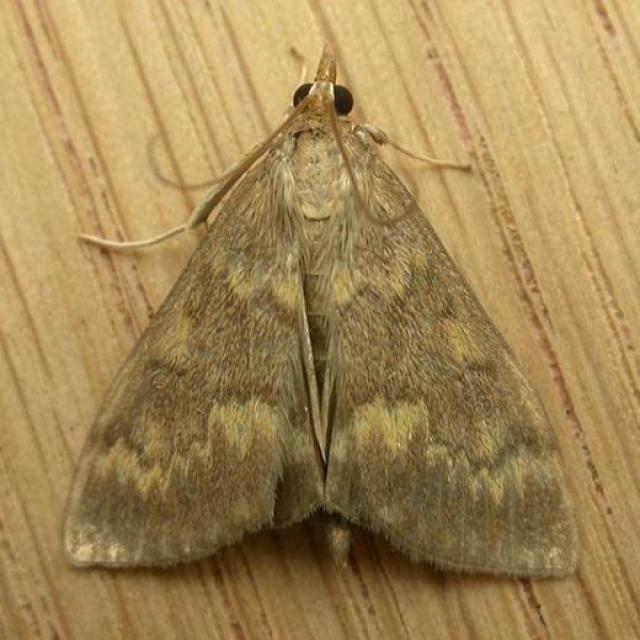cornborer-Adult-: (62, 39, 602, 588)
